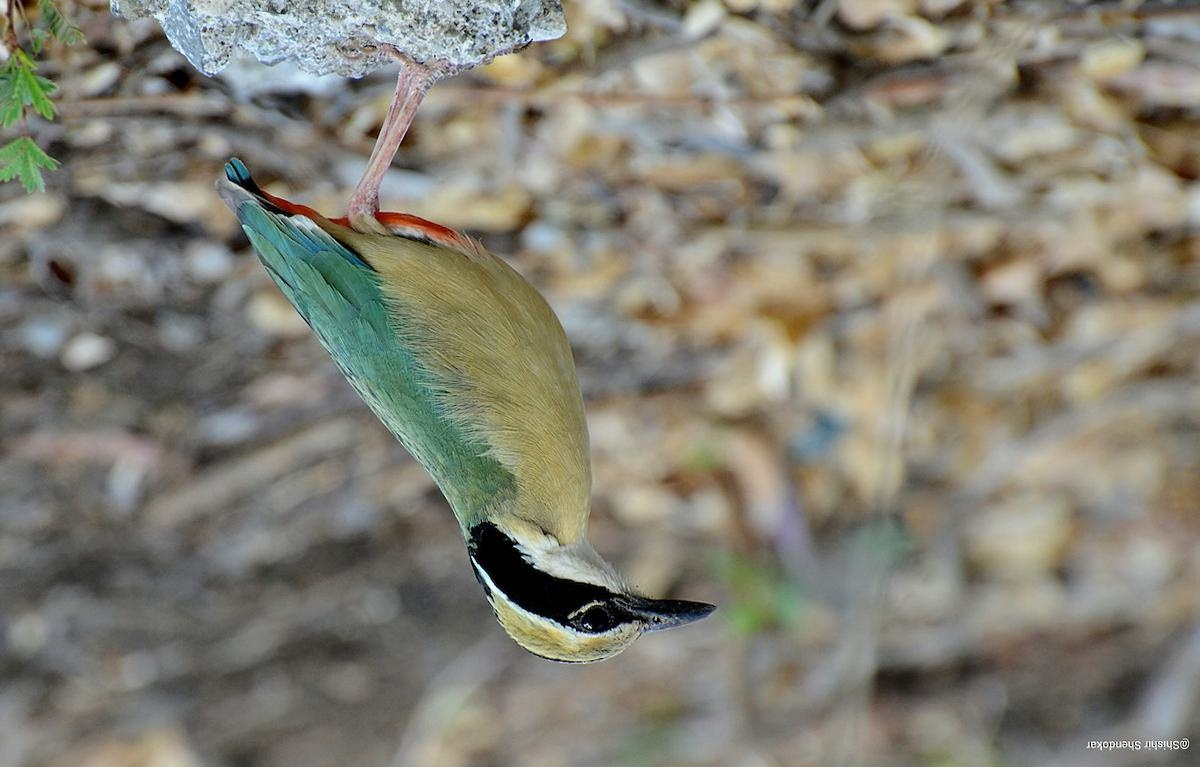pitta: (176, 59, 731, 680)
